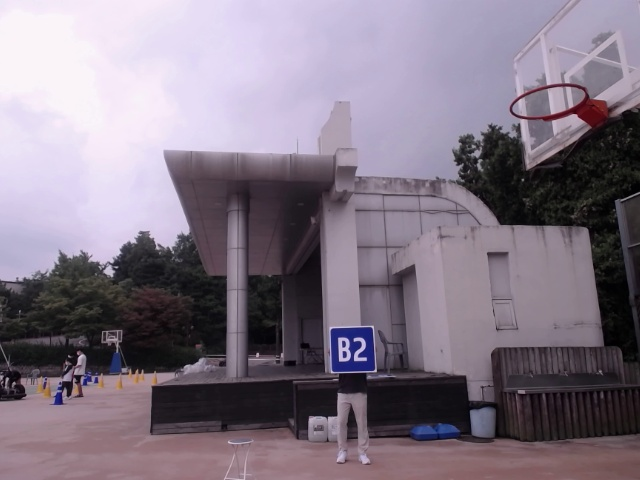delivery_b2: (330, 326, 377, 373)
